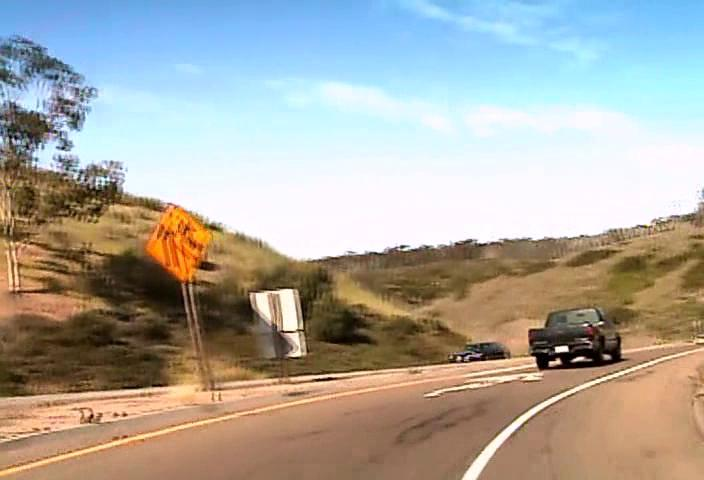addedLane: (145, 202, 212, 281)
